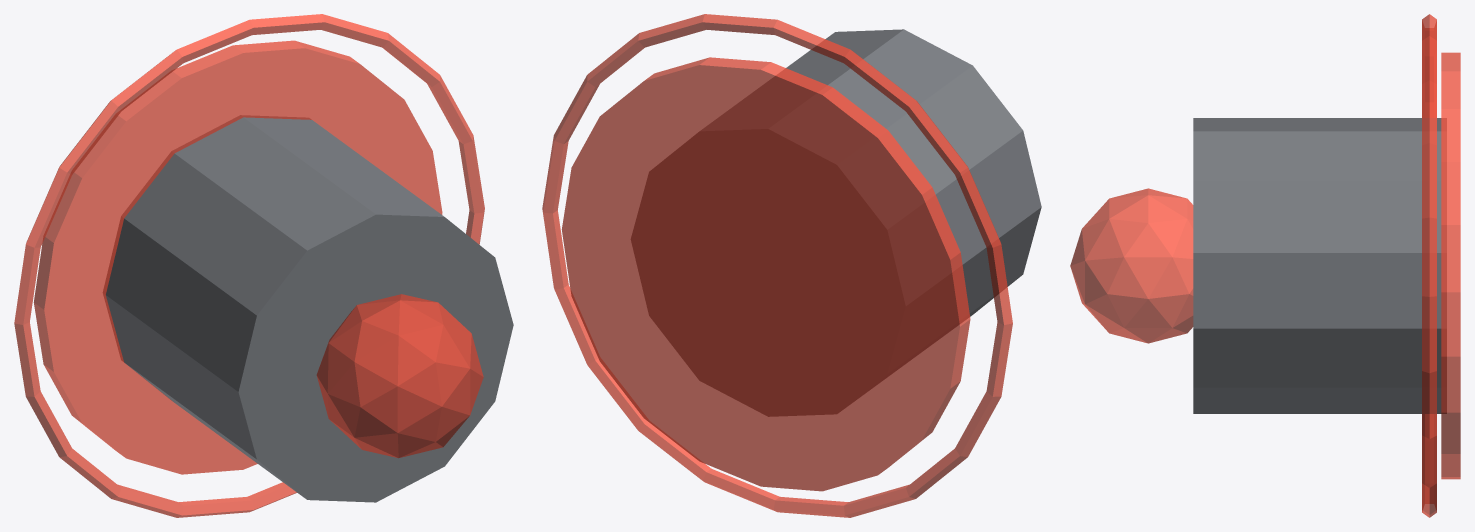
Rendered from 09_death_marker.glb.
3 views of the same model, side by side, from view 1: azimuth 30°, elevation 25°; view 2: azimuth 150°, elevation 25°; view 3: azimuth 270°, elevation 25° (orthographic). The views are drawn at different scales.
Parts seen in each view (by area): view 1: station_body, base_disc, core, base_ring; view 2: base_disc, station_body, base_ring; view 3: station_body, core, base_disc, base_ring.
Part boxes in pixels (x1=…): station_body: x1=103, y1=115, x2=513, y2=502; base_disc: x1=33, y1=40, x2=442, y2=474; core: x1=316, y1=294, x2=483, y2=458; base_ring: x1=14, y1=14, x2=484, y2=517; base_disc: x1=561, y1=57, x2=970, y2=491; station_body: x1=631, y1=29, x2=1041, y2=416; base_ring: x1=542, y1=14, x2=1012, y2=517; station_body: x1=1193, y1=118, x2=1446, y2=413; core: x1=1070, y1=188, x2=1193, y2=343; base_disc: x1=1441, y1=52, x2=1460, y2=479; base_ring: x1=1422, y1=14, x2=1436, y2=517.
Size of the model in its own units: 1.3 by 1.3 by 1.
